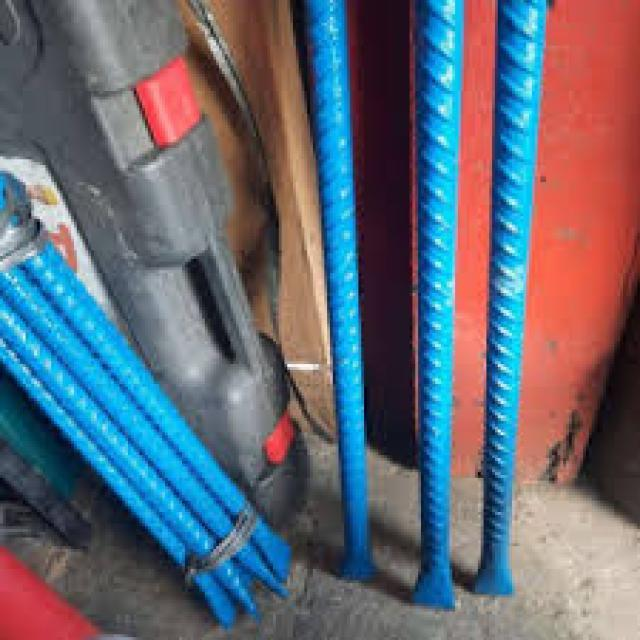Linggis: (276, 0, 406, 592), (460, 0, 570, 606), (398, 0, 470, 618)
